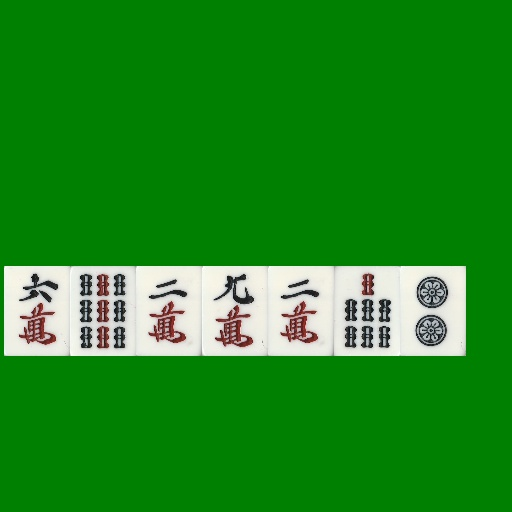2m: (136, 266, 202, 356), (268, 266, 334, 356)
2p: (400, 266, 466, 356)
6m: (4, 266, 70, 356)
7s: (334, 266, 400, 356)
9m: (202, 266, 268, 356)
9s: (70, 266, 136, 356)
